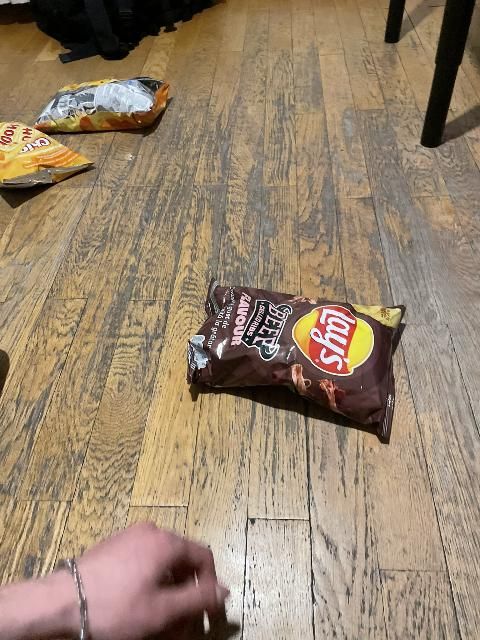Chio Cascaval 125g: (32, 77, 171, 133)
Chio Hula Hoops Cheese 70g: (0, 121, 96, 185)
Lays Beef Grilled Ribs 125g: (188, 281, 399, 437)
